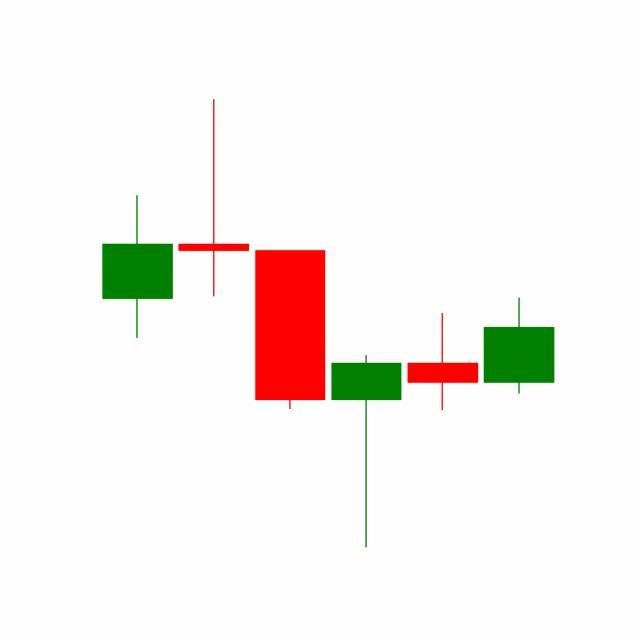Spinning Top: (404, 312, 482, 413)
